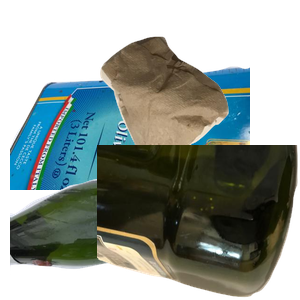glass: (10, 154, 246, 300)
metal: (10, 64, 250, 244)
plastic: (97, 145, 300, 300)
trash: (98, 34, 300, 211)
